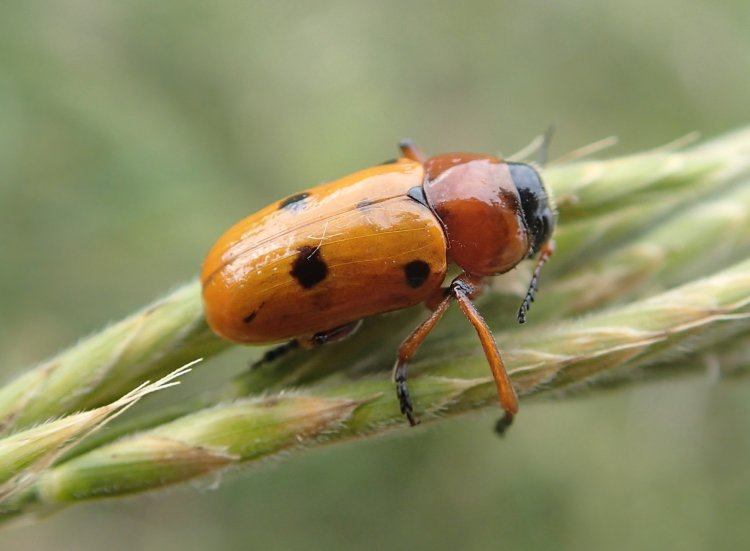Tituboea_macropus: (202, 122, 566, 447)
